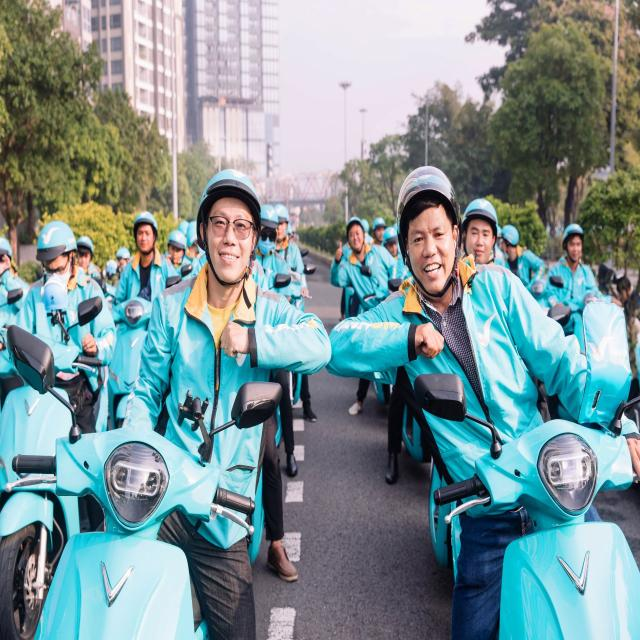1-2-helmet: (197, 169, 262, 234)
